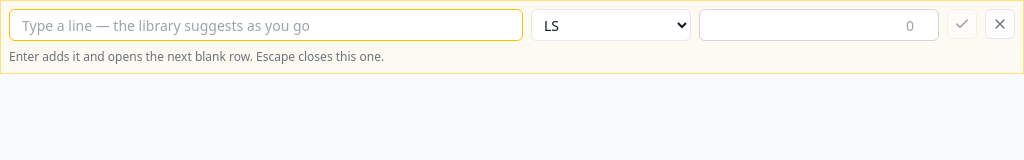
when the offer to save appears › is not there when the library did match something
Type "mass exc" into the dropdown named "What is this line?" at (266, 25), box 9,9 -> 523,41
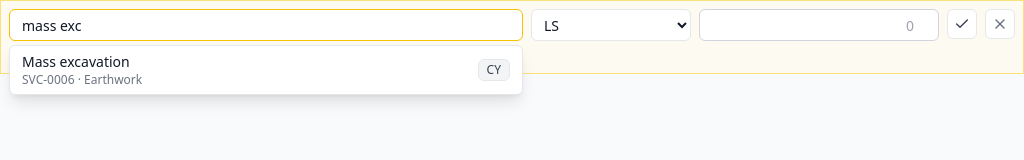
Now the list is shown, box 9,45 -> 523,95
